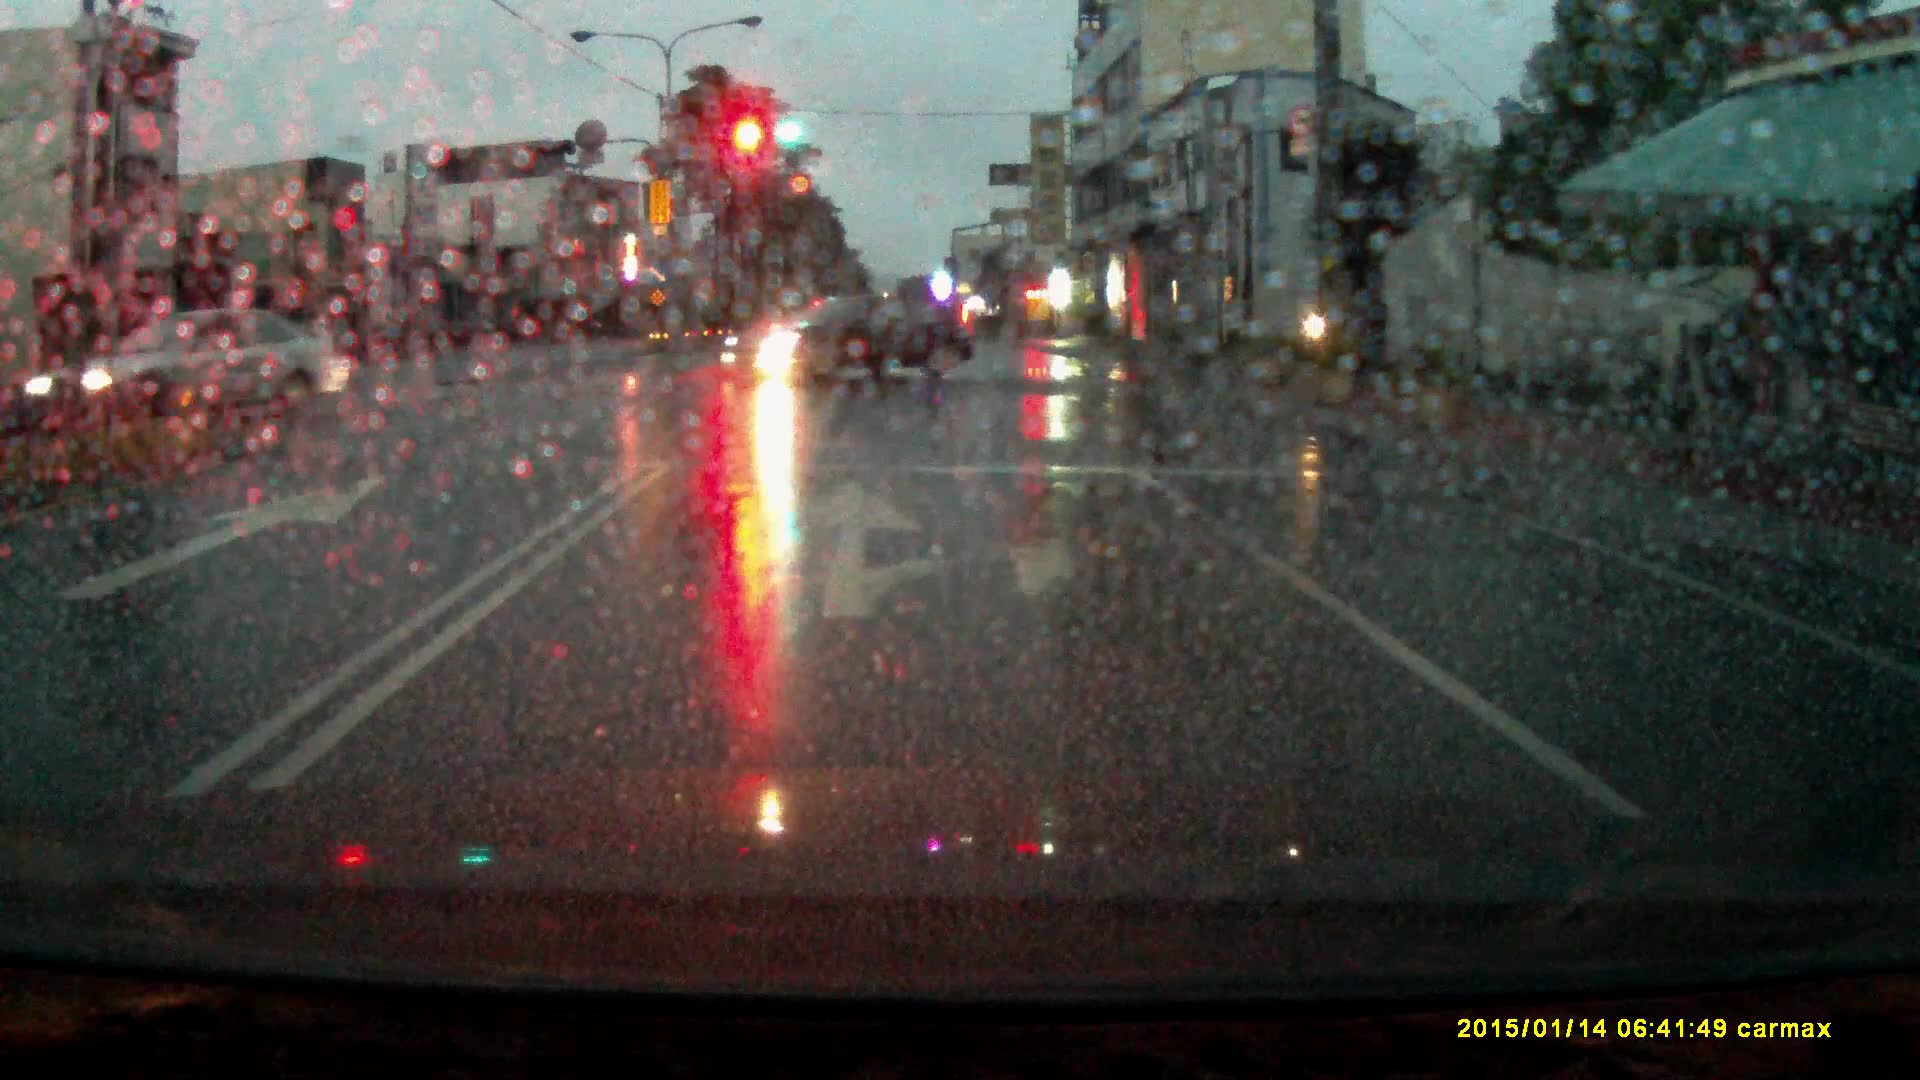vehicle: (41, 305, 361, 419), (721, 289, 973, 386)
